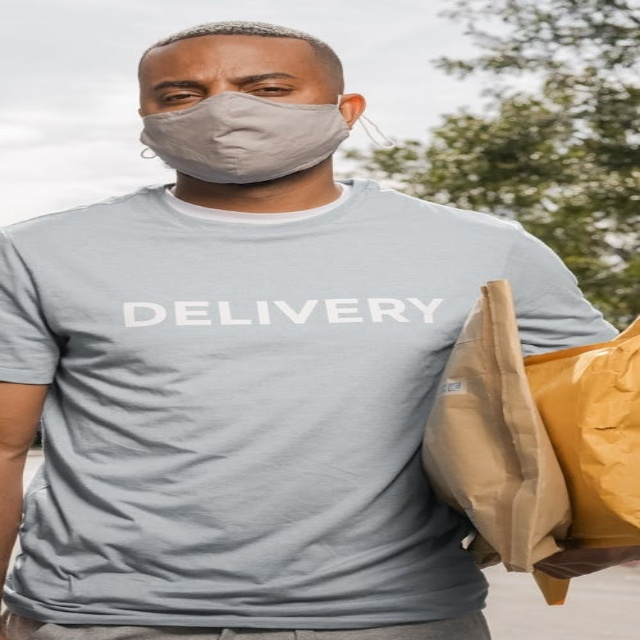Mascara: (140, 89, 352, 182)
Sin_gafas: (143, 71, 323, 107)
